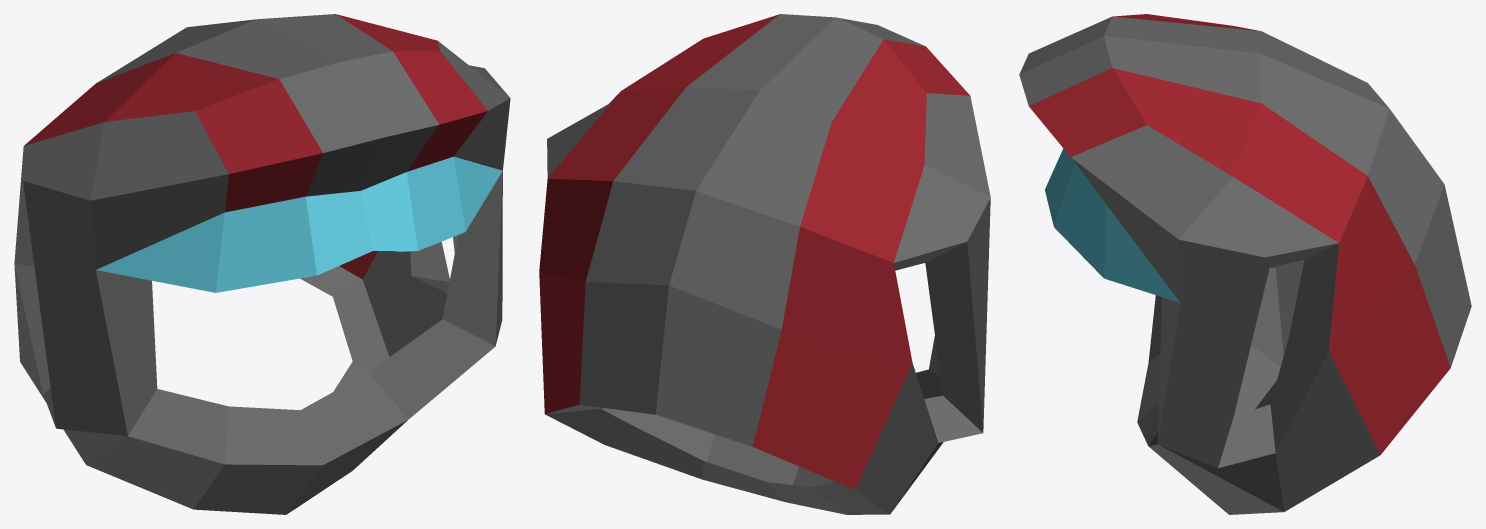
File: GreyRedHelmet.fbx
3 renders of one model, left to right at view 1: azimuth 30°, elevation 25°; view 2: azimuth 150°, elevation 25°; view 3: azimuth 270°, elevation 25°, orthographic. The views are drawn at different scales.
Visible parts, largest first — view 1: Helmet; view 2: Helmet; view 3: Helmet.
Part boxes in pixels (x1,y1,x2,y2): Helmet: (14, 14, 510, 514); Helmet: (539, 14, 990, 514); Helmet: (1019, 14, 1471, 514).
Size of the model in its own units: 20.59 by 21.01 by 18.84.
